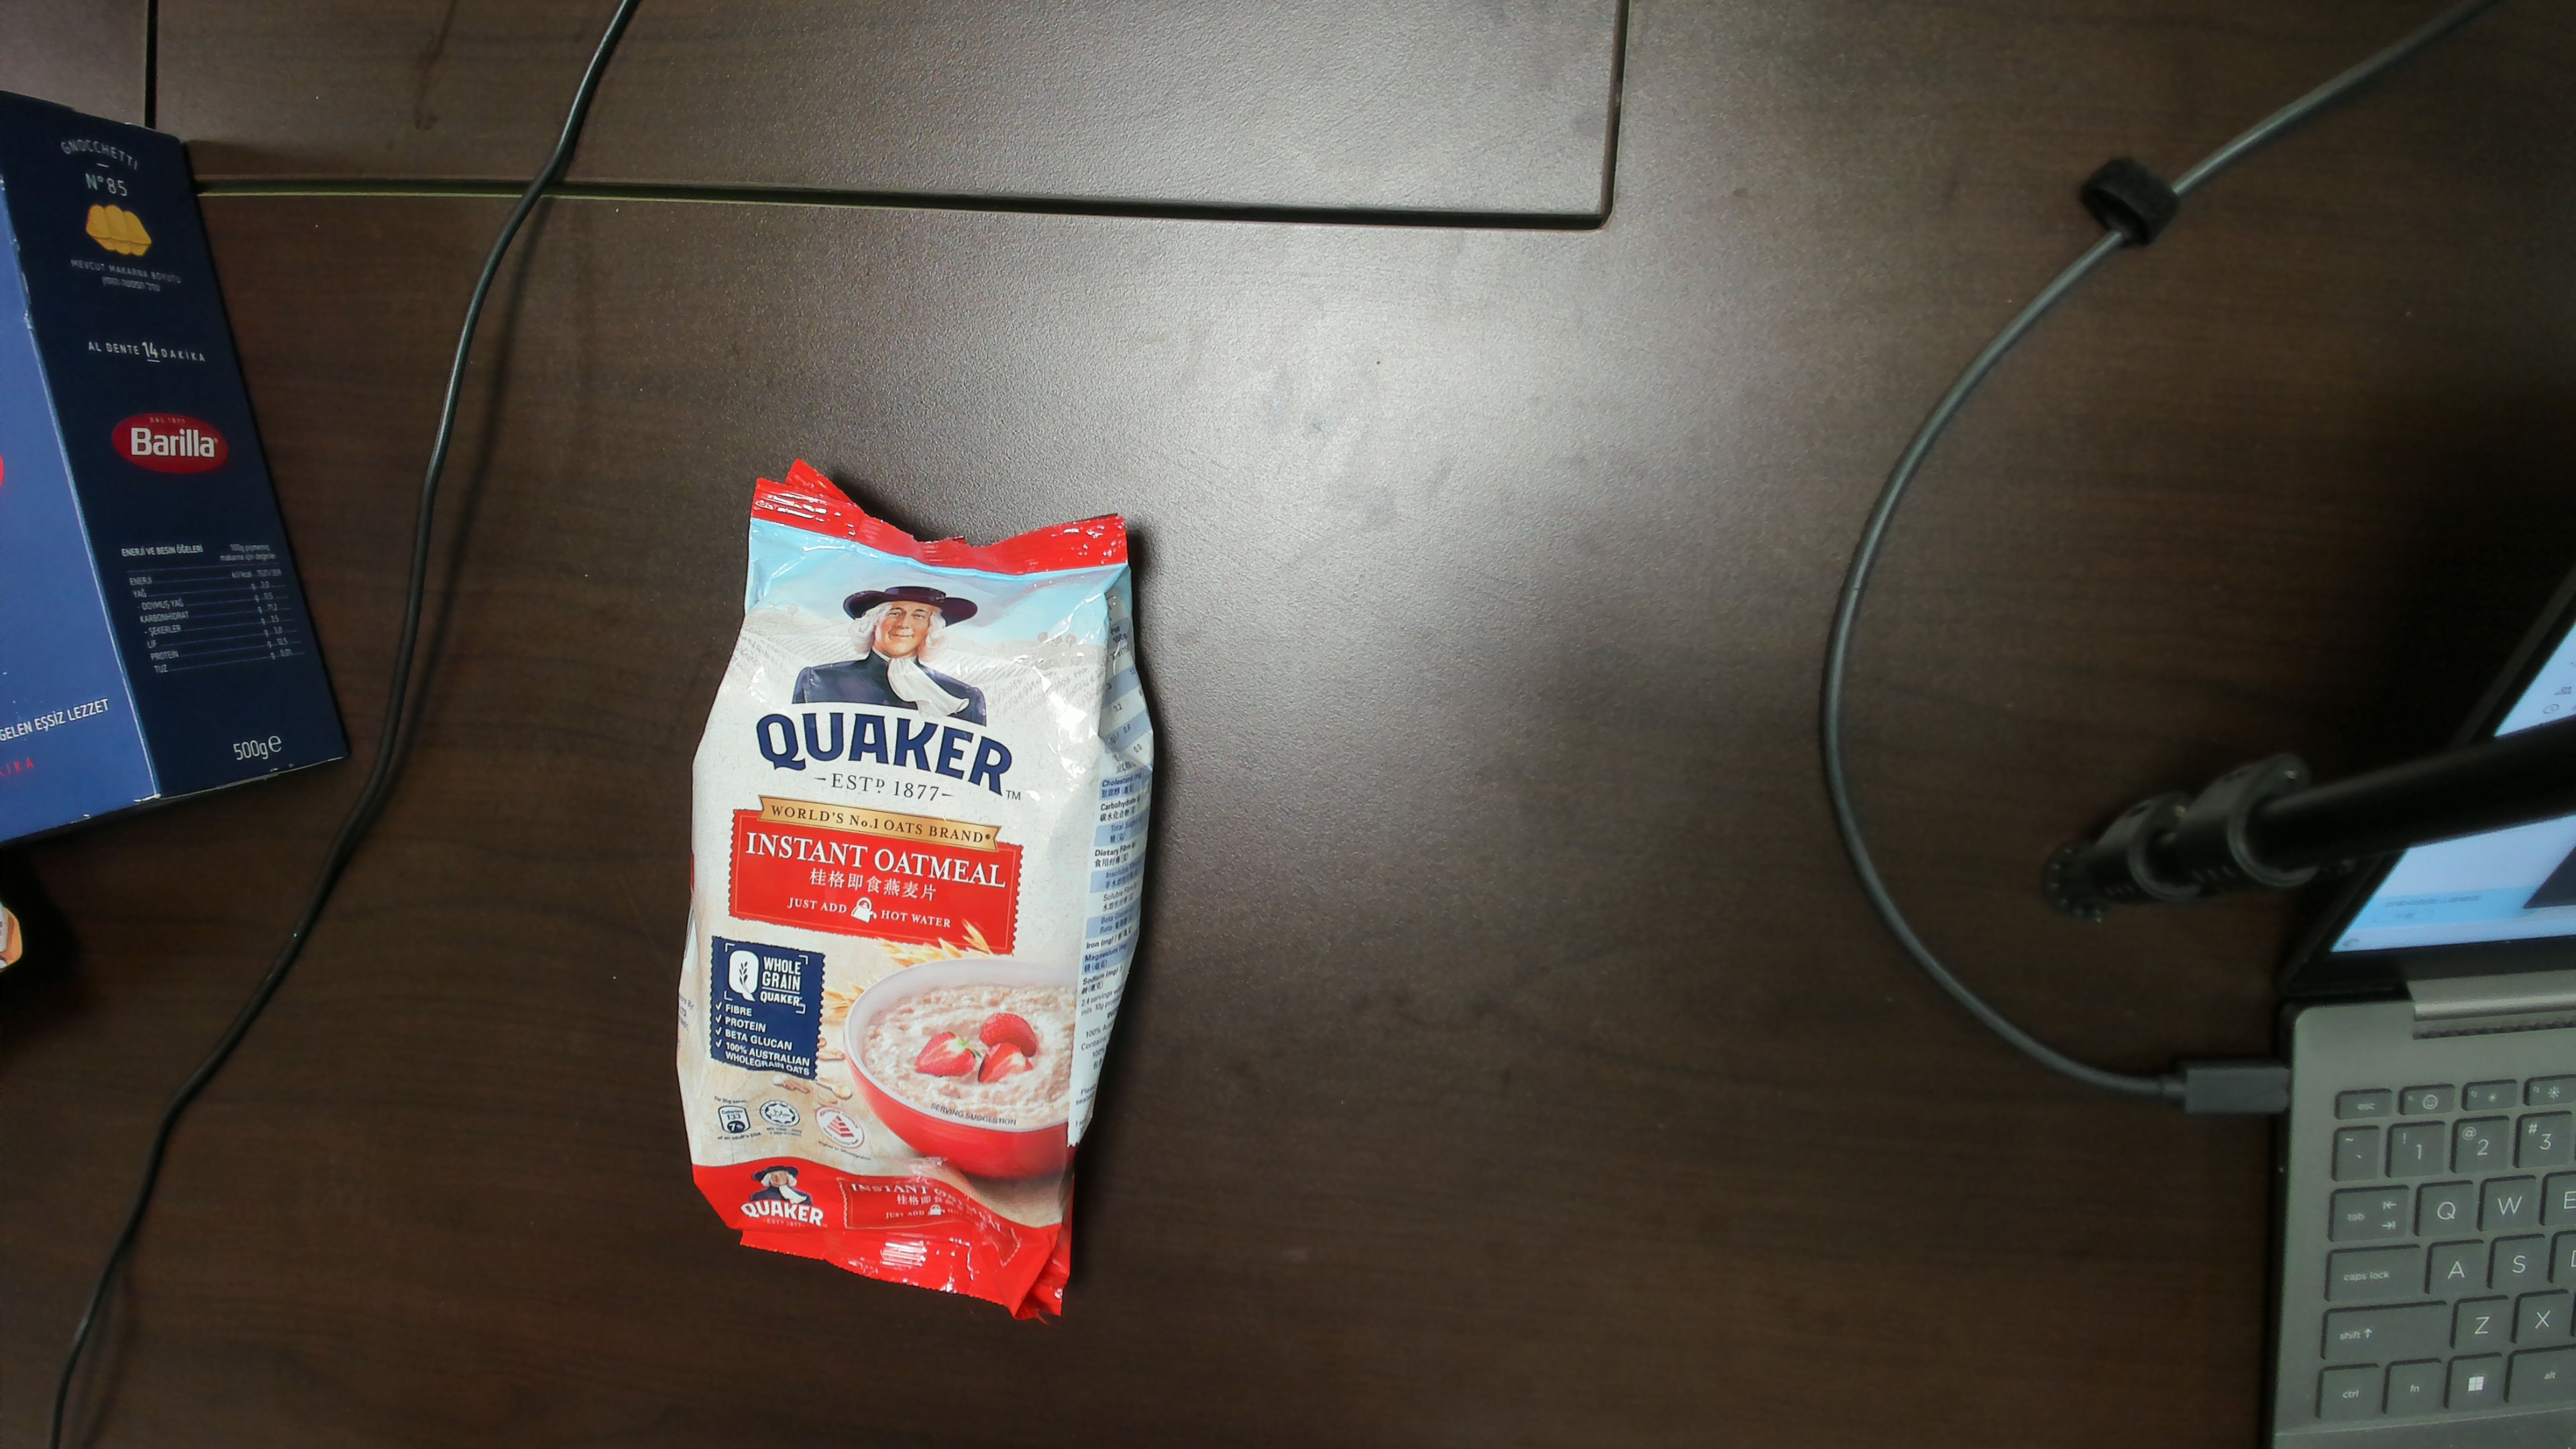RolledOatsInstantOatmeal_400-499g_Halal_Healthy: (709, 586, 1150, 1224)
